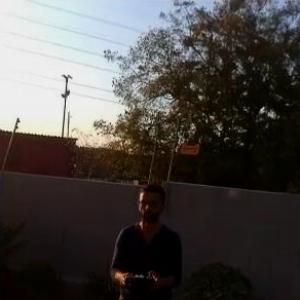follow: (107, 176, 191, 299)
